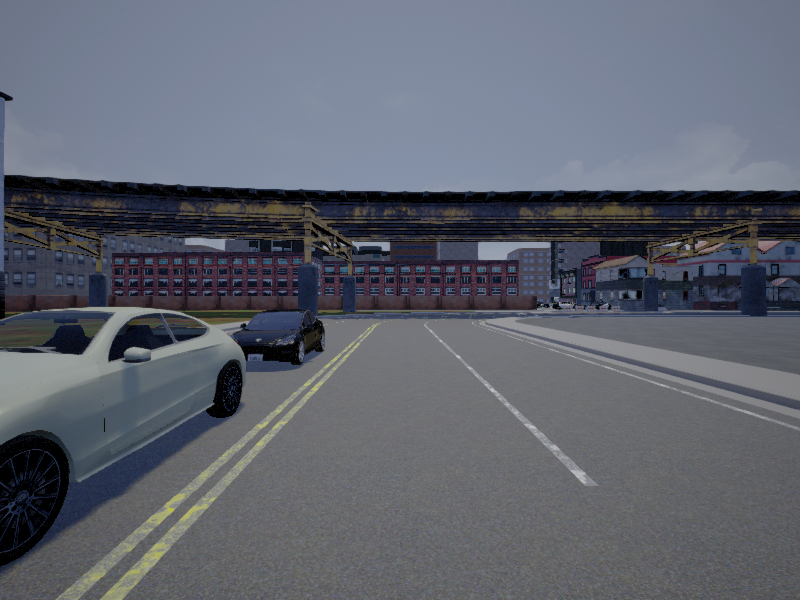Benign: (1, 305, 246, 567), (229, 311, 326, 365)
